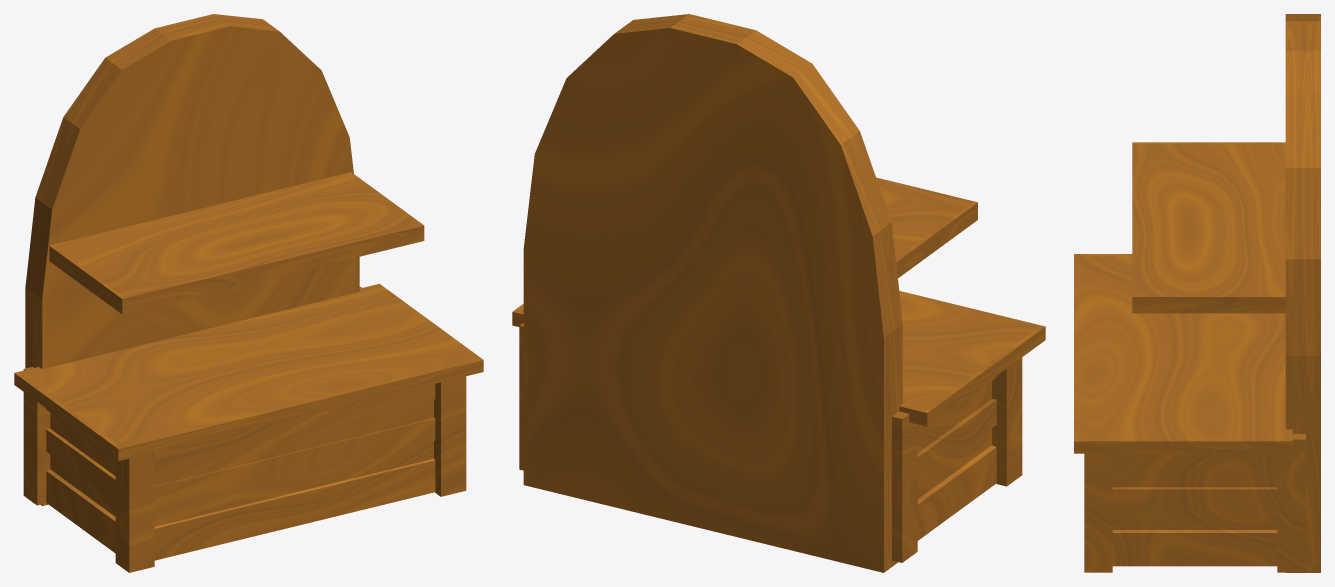
File: dolap.fbx
3 views of the same model, side by side, from view 1: azimuth 30°, elevation 25°; view 2: azimuth 150°, elevation 25°; view 3: azimuth 270°, elevation 25° (orthographic). The views are drawn at different scales.
Visible parts, largest first — view 1: Cube.093; view 2: Cube.093; view 3: Cube.093.
Boxes of the visible parts, bbox=[...] form: Cube.093: bbox=[14, 14, 483, 572]; Cube.093: bbox=[512, 14, 1045, 572]; Cube.093: bbox=[1074, 14, 1320, 572].
Size of the model in its own units: 2.3 by 2.61 by 1.28.
Materials: 1 (1 with a texture image).
